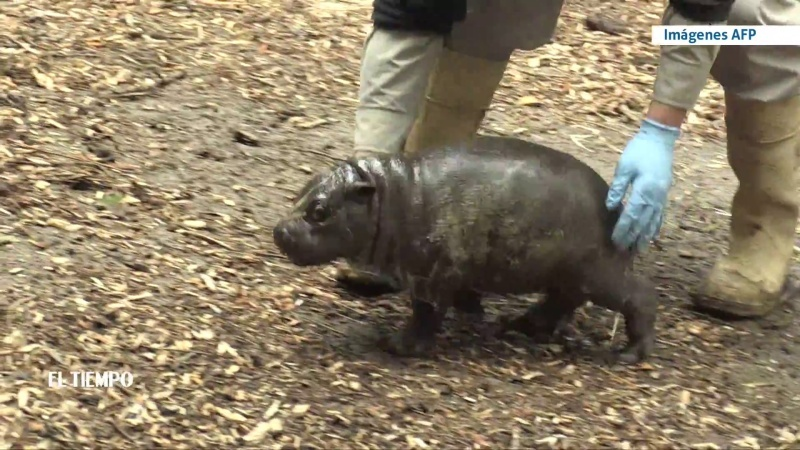hipopotamo: (244, 130, 676, 383)
